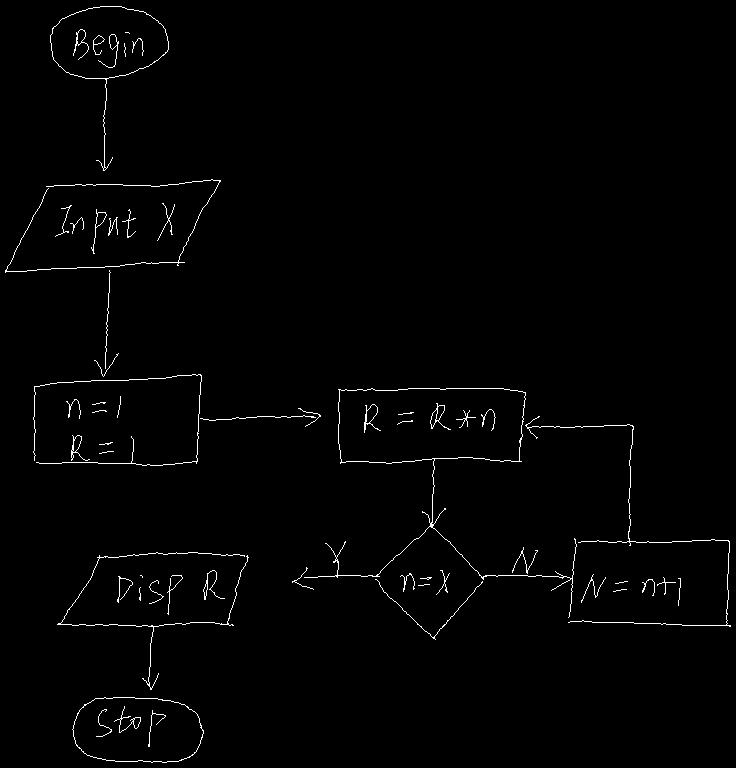arrow: (525, 416, 633, 545), (94, 270, 118, 376), (200, 408, 320, 426), (292, 567, 379, 589), (481, 571, 571, 590), (422, 458, 445, 527), (96, 79, 112, 170), (142, 625, 158, 689)
data: (5, 179, 220, 272), (57, 552, 248, 626)
decision: (375, 524, 483, 639)
process: (33, 374, 201, 465), (568, 538, 730, 626), (338, 388, 525, 463)
terminator: (72, 697, 203, 762), (50, 6, 168, 78)
text: (55, 203, 174, 253), (117, 570, 224, 614), (66, 396, 133, 462), (364, 403, 495, 432), (581, 574, 680, 605), (96, 706, 165, 746), (73, 29, 143, 67), (400, 570, 449, 594), (325, 541, 345, 577), (512, 547, 537, 573)
